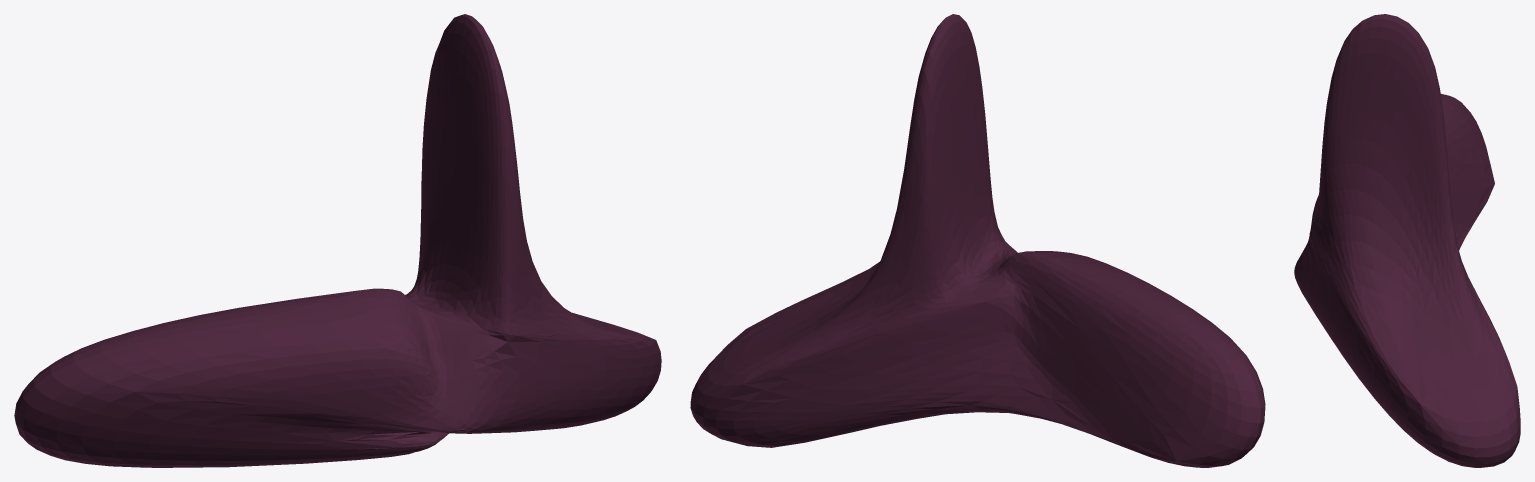
3 views of the same model, side by side, from view 1: azimuth 30°, elevation 25°; view 2: azimuth 150°, elevation 25°; view 3: azimuth 270°, elevation 25° (orthographic). The views are drawn at different scales.
Parts seen in each view (by area): view 1: 729_Cube.2926; view 2: 729_Cube.2926; view 3: 729_Cube.2926.
Boxes of the visible parts, x1,y1,x2,y2 form: 729_Cube.2926: (14,14,661,467); 729_Cube.2926: (690,14,1265,467); 729_Cube.2926: (1294,14,1520,467).
Bounding box in the file's own units: 19.59 × 13.92 × 7.59.
